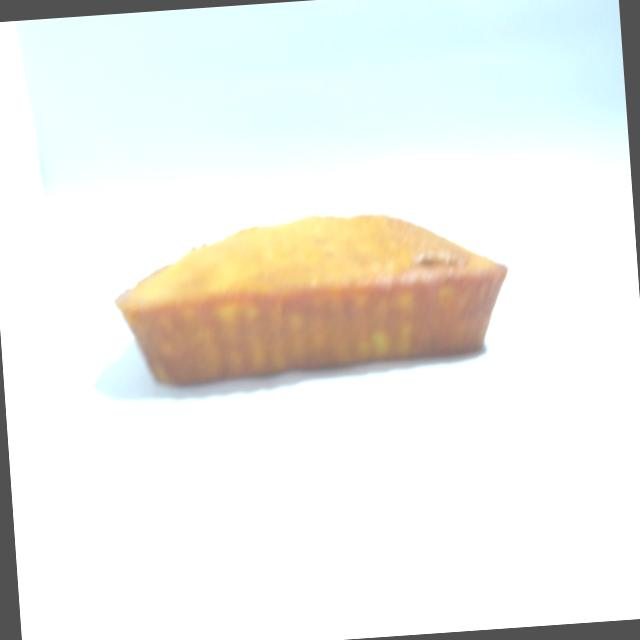Sopa: (98, 189, 520, 418)
